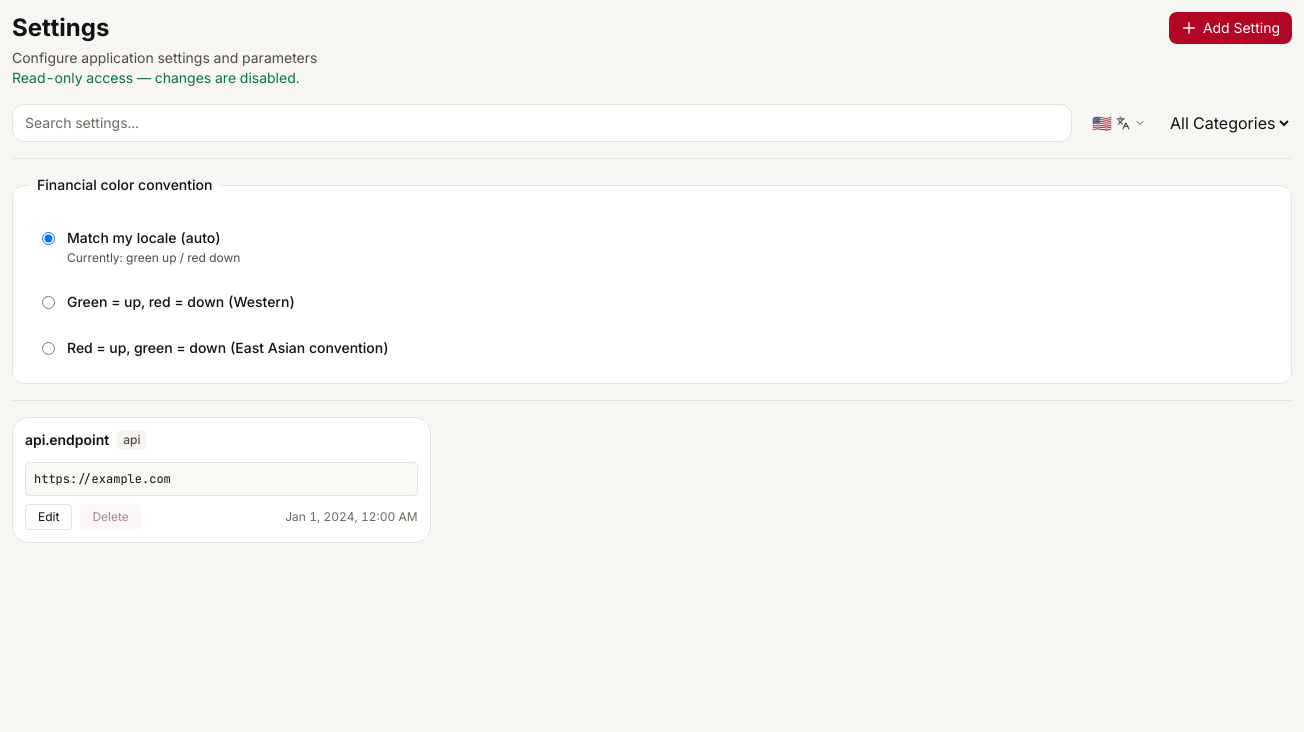
Test: Settings › lets an auditor inspect existing settings without enabling writes
The image size is (1304, 732).
Check: the heading "api.endpoint" is shown, box [25, 430, 109, 450]
Check: the message shows "Read-only access", box [12, 69, 300, 86]
Click the button "Edit": x=49, y=517 [25, 504, 72, 530]
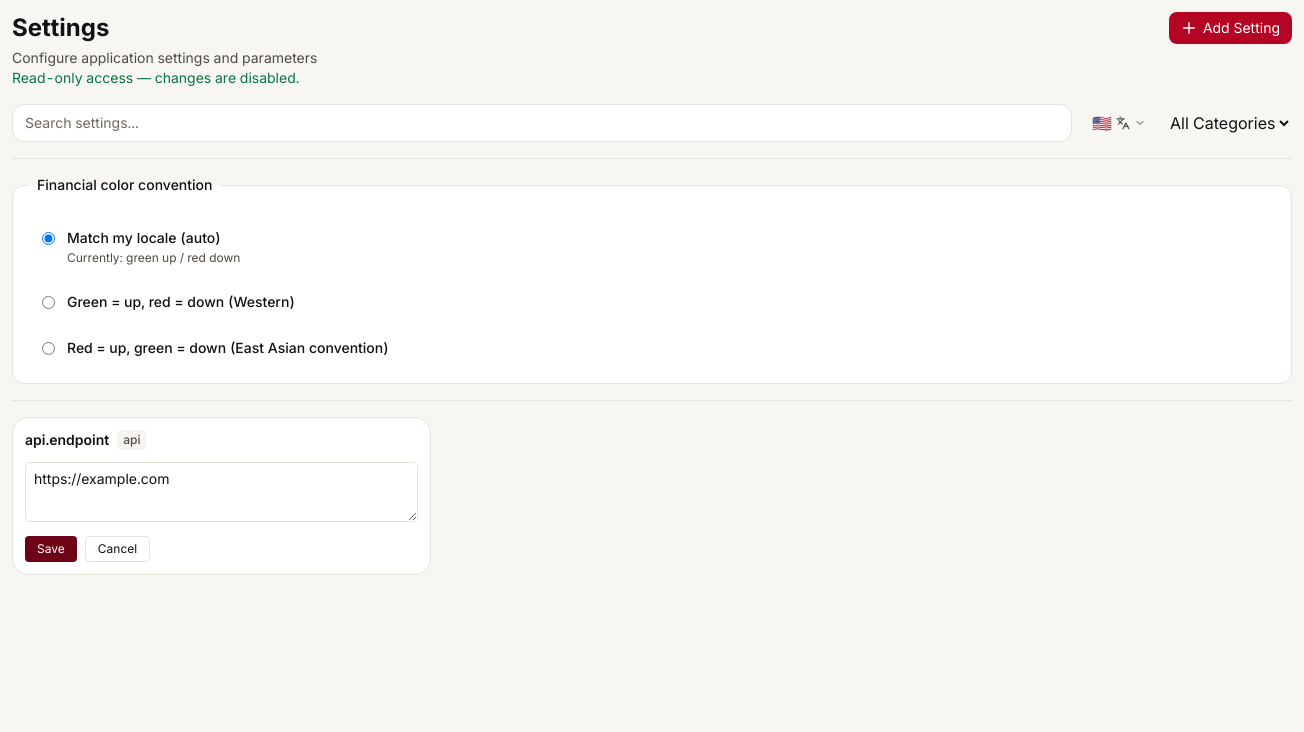
Check: the button "Save" is disabled, box [25, 536, 77, 562]
